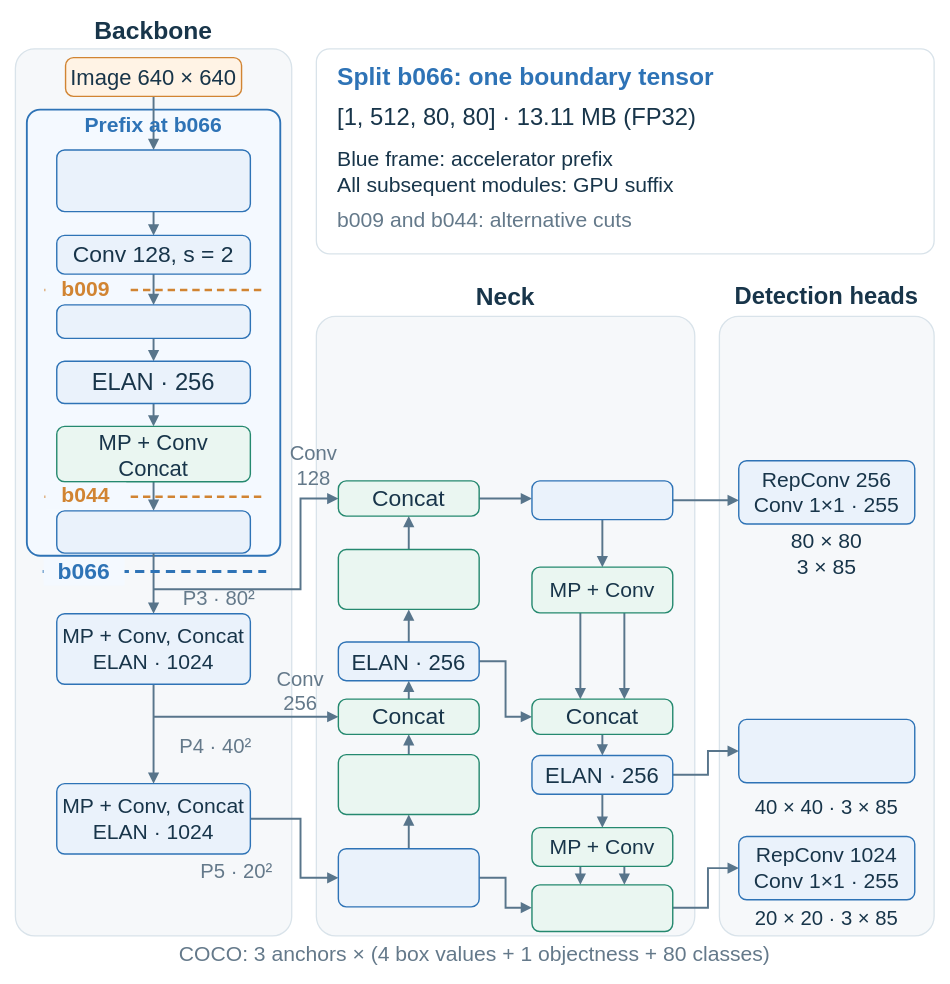
Some shapes in this 950 by 984 pixel diagram are drawn without their labels. The shapes that lost their labels are listed below. From the top down, each one's box as (x1, y1, x2, y2) in pixels, then its label:
(56, 149, 251, 212): Conv × 3 32 → 64 → 64
(56, 304, 251, 339): SiLU
(531, 480, 673, 520): ELAN · 128
(56, 510, 251, 553): ELAN · 512
(337, 548, 479, 610): Conv 128 Upsample ×2
(738, 718, 915, 783): RepConv 512 Conv 1×1 · 255
(337, 753, 479, 815): Conv 256 Upsample ×2
(337, 848, 479, 907): SPPCSPC 512
(531, 884, 673, 932): Concat ELAN · 512
